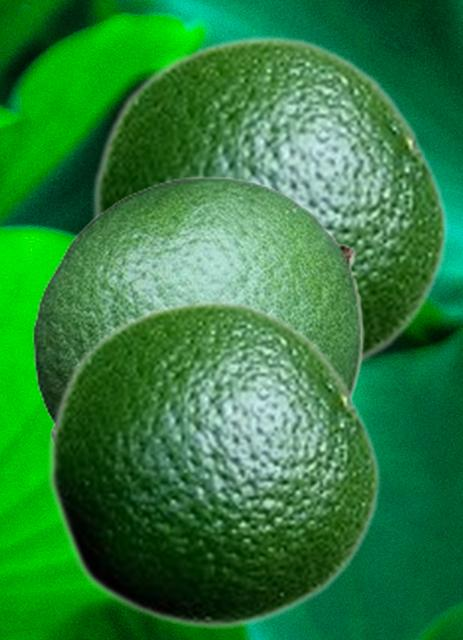calamansi: (90, 34, 449, 368), (46, 298, 381, 630), (32, 175, 363, 440)
